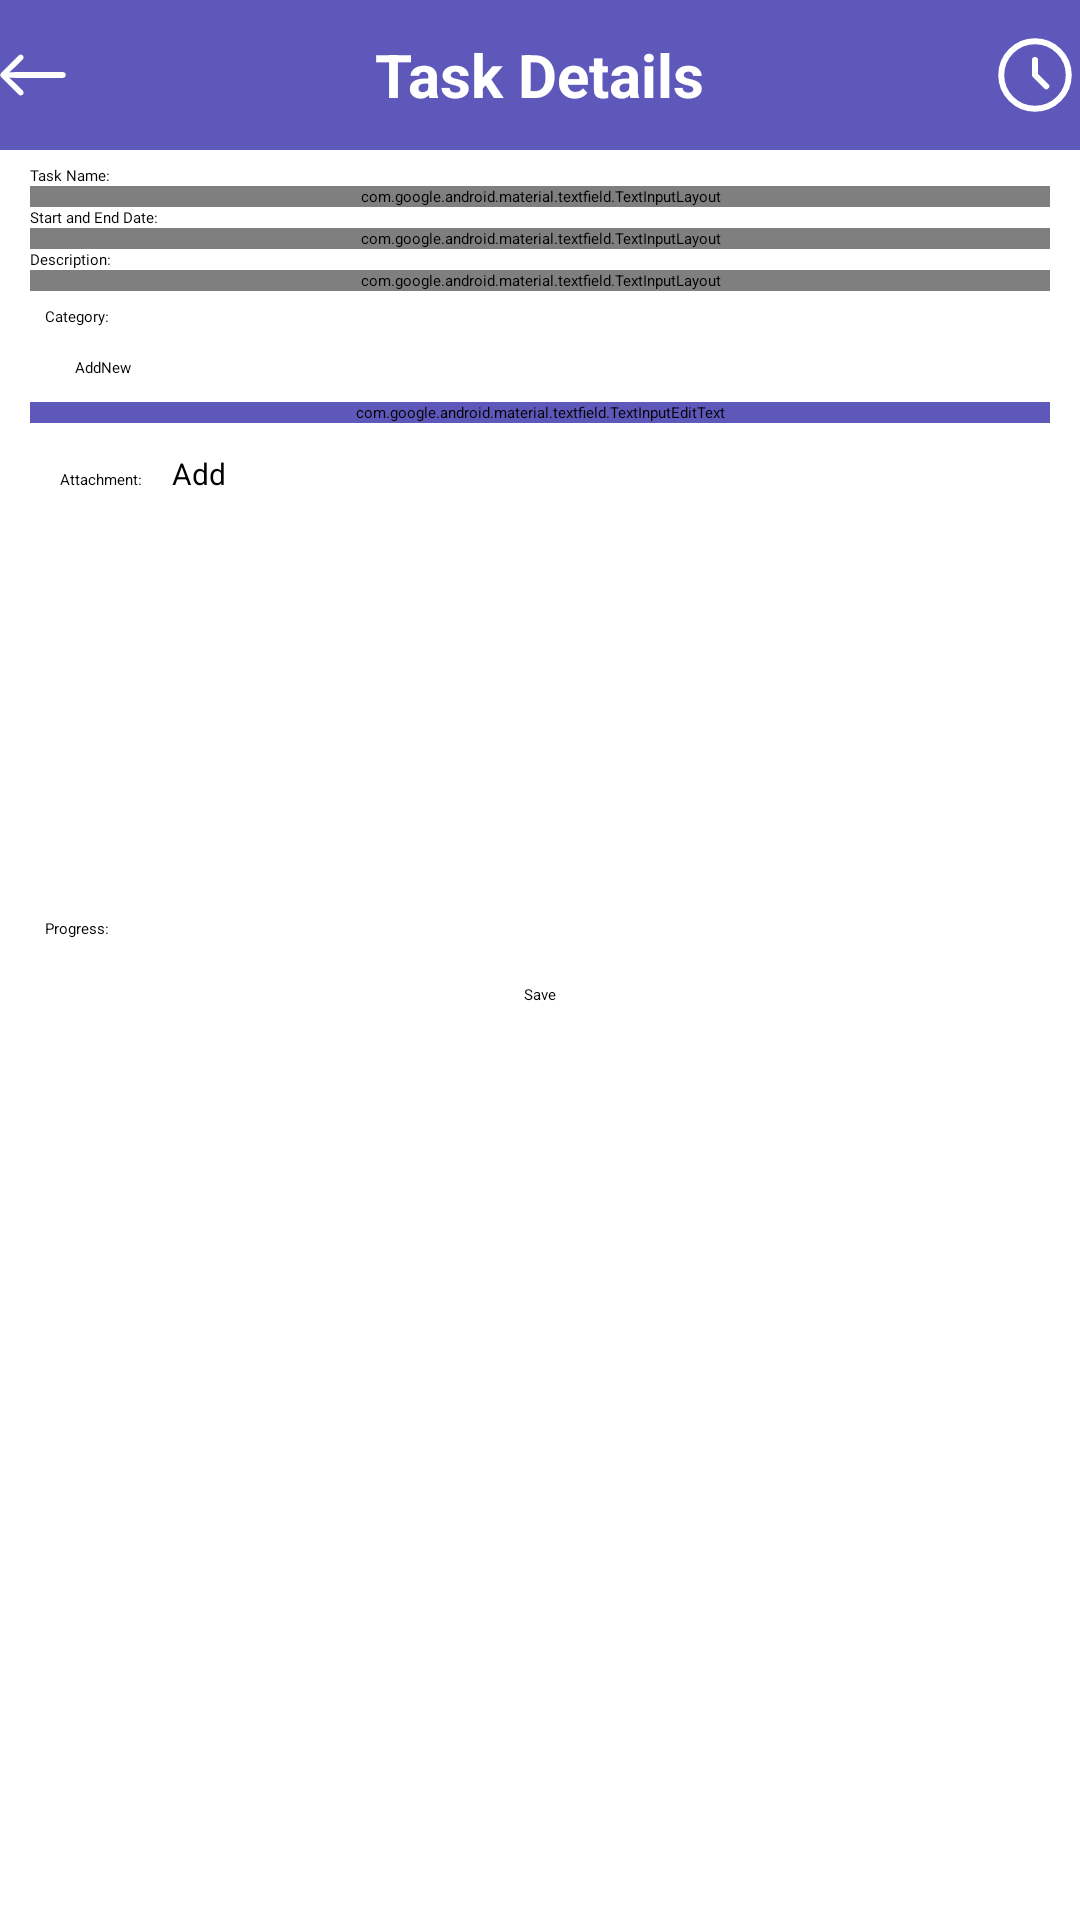

Where icons sit on this 1080px×1920px app screen, as (x1, y1, x2, y2):
back: (0, 54, 66, 96)
clock: (998, 38, 1072, 112)
